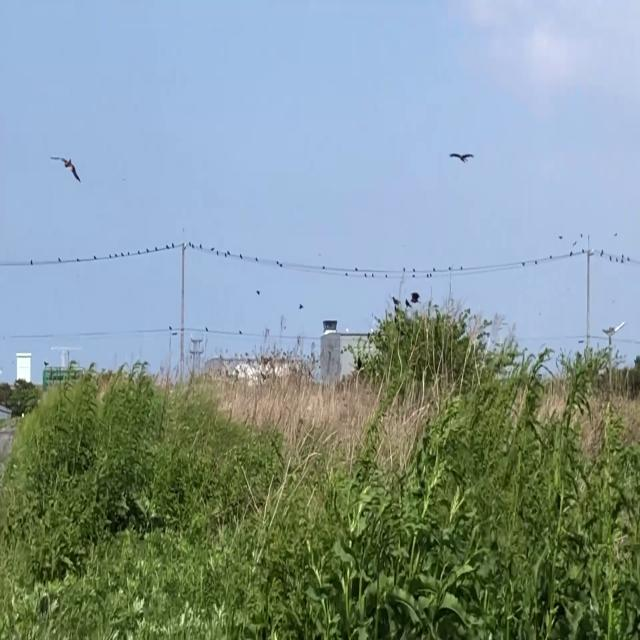bird: (55, 146, 81, 192), (449, 143, 474, 171)
